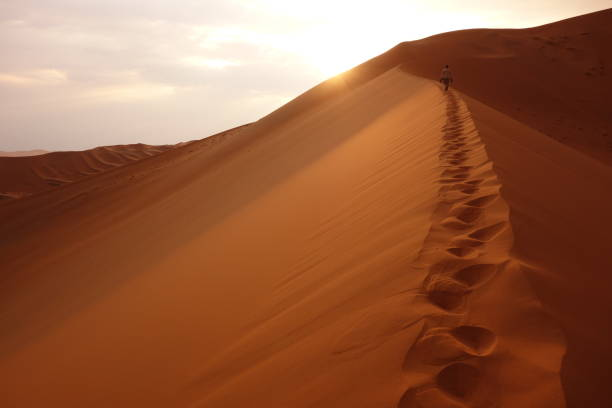human_footprint: (398, 93, 508, 407)
